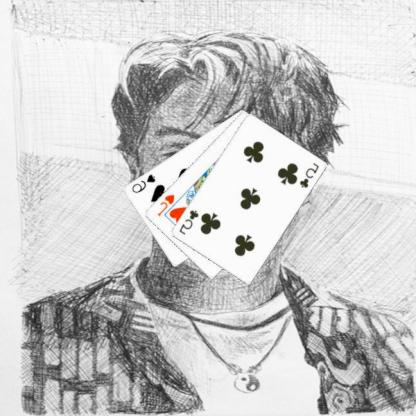5C: (178, 207, 202, 236), (298, 160, 322, 189)
9S: (130, 170, 158, 194)
JH: (156, 191, 178, 218)
